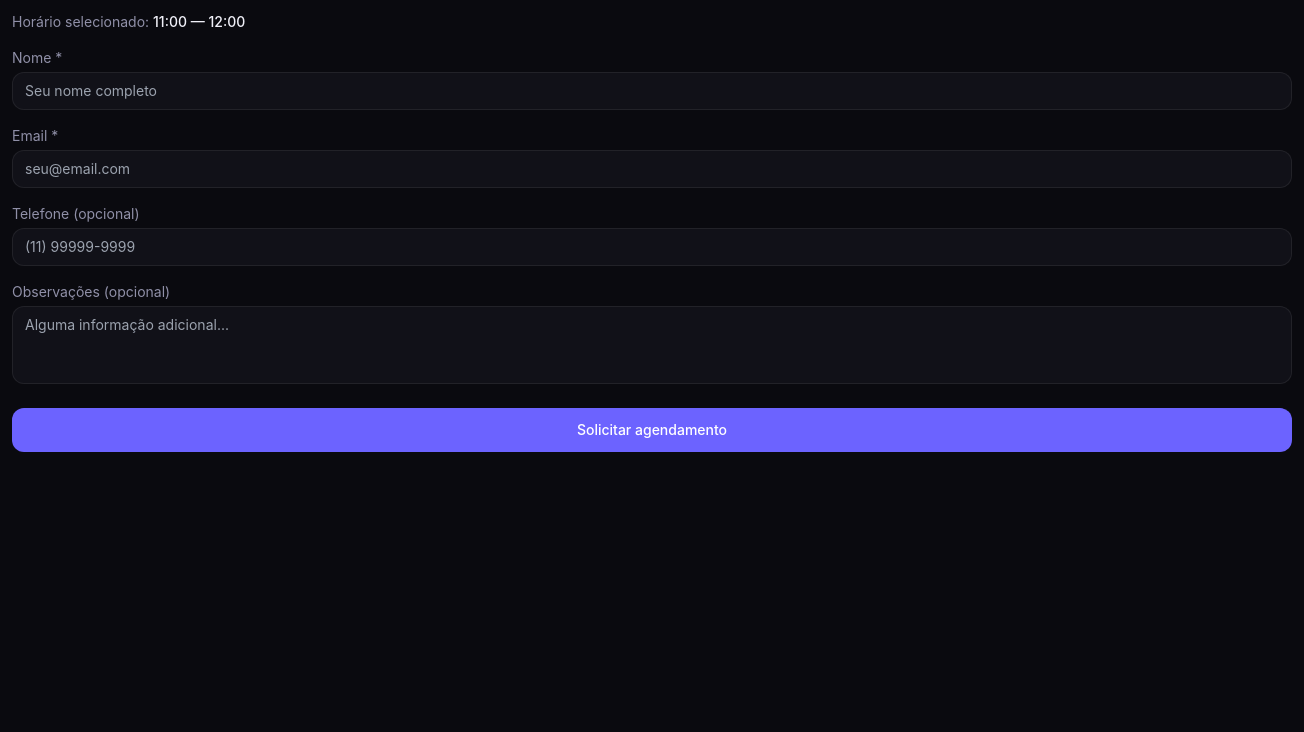
Scenario: AppointmentForm › exibe mensagem de erro quando horário está indisponível (409)
Type "João" into the field labelled "Nome *" at (652, 91), box left=12, top=72, right=1292, bottom=110
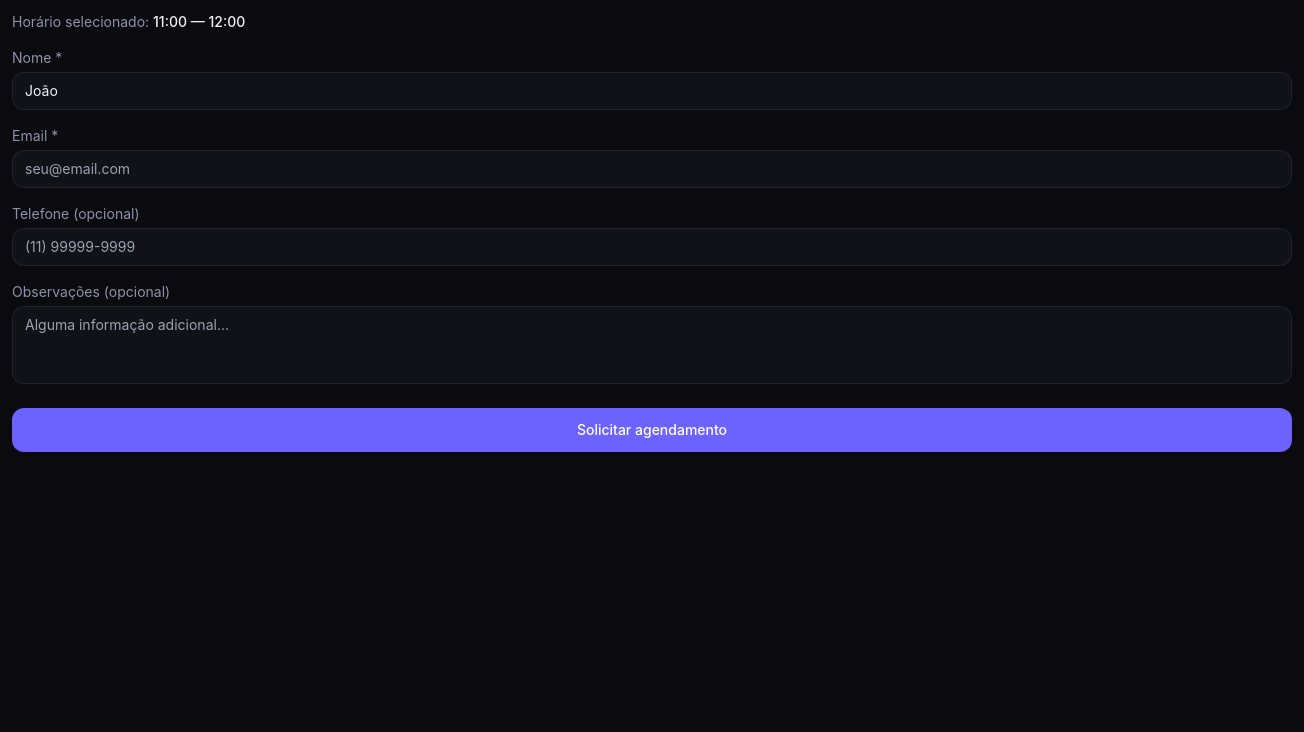
Type "j@t.com" into the field labelled "Email *" at (652, 169), box left=12, top=150, right=1292, bottom=188
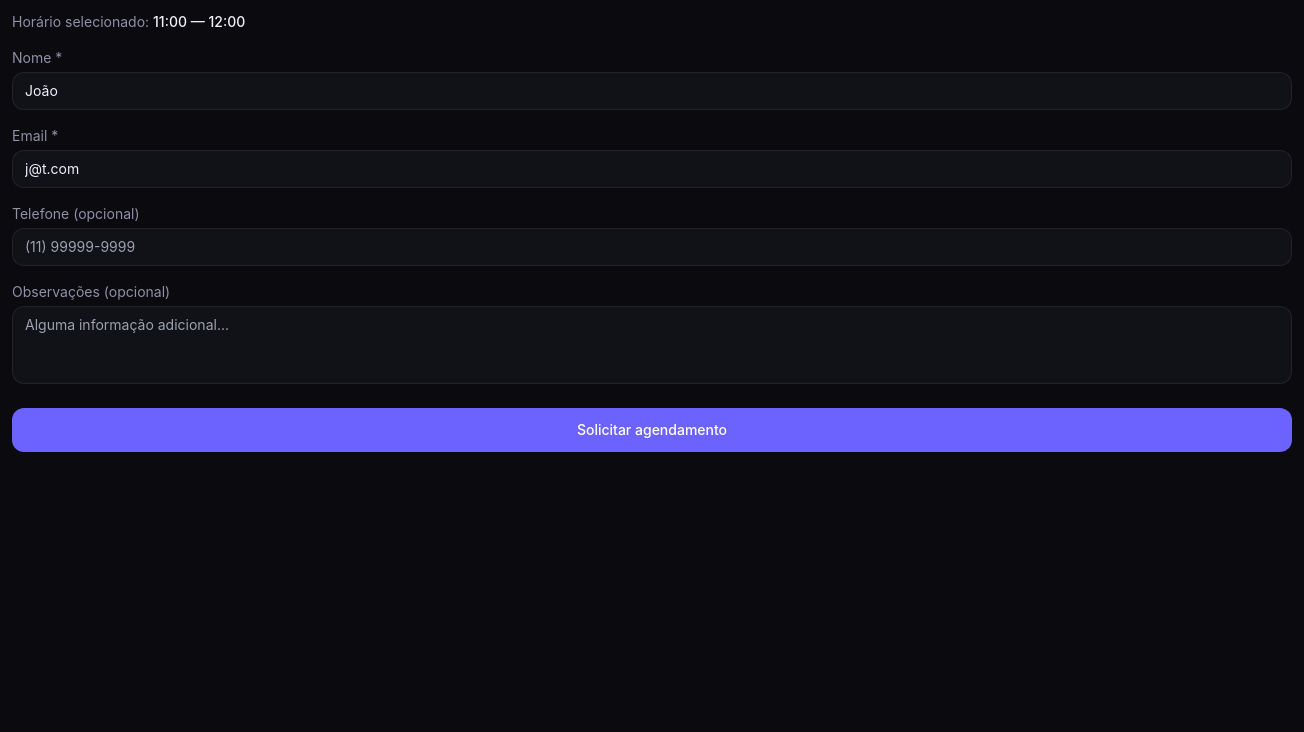
Click the button "Solicitar agendamento" at (652, 430), box left=12, top=408, right=1292, bottom=452
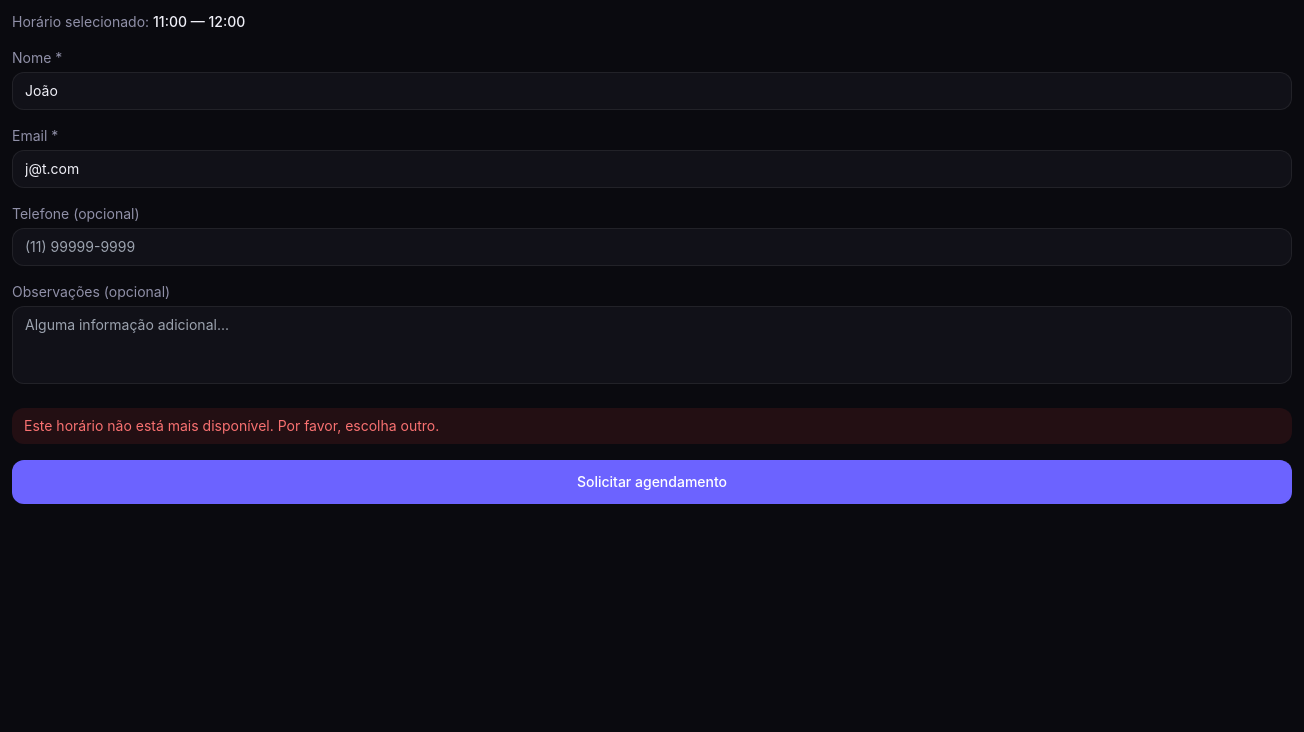
Expected: the text "não está mais disponível" is shown, left=24, top=417, right=439, bottom=434
